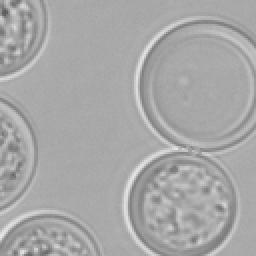picoshell: (134, 16, 254, 152), (122, 148, 238, 254), (0, 210, 102, 254), (0, 100, 36, 214)
